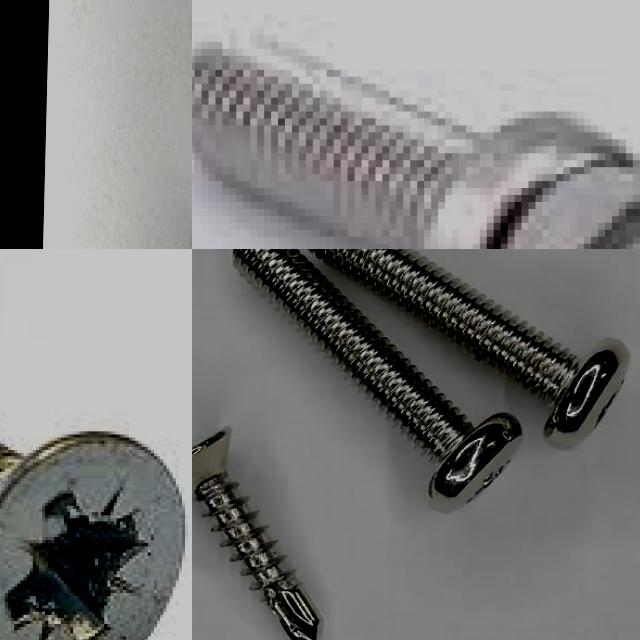Screw: (192, 49, 640, 249), (233, 249, 521, 511), (309, 249, 630, 445), (0, 431, 188, 640), (192, 427, 319, 640)
